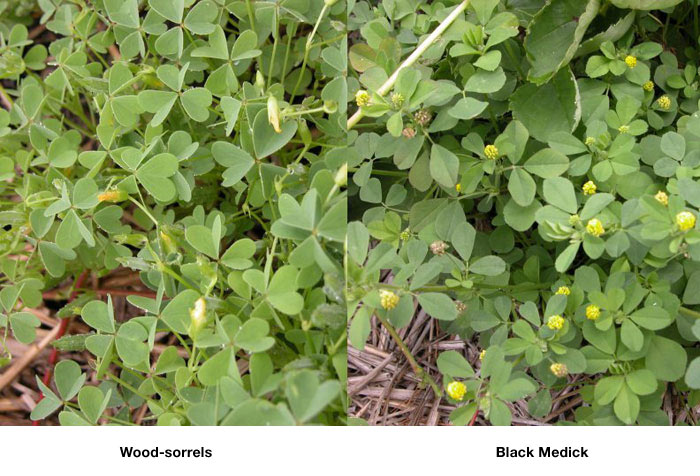oxalis: (377, 15, 700, 403), (42, 28, 332, 413)
